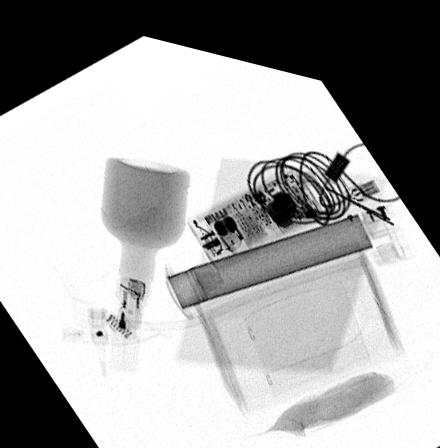Lighter: (111, 268, 145, 336)
